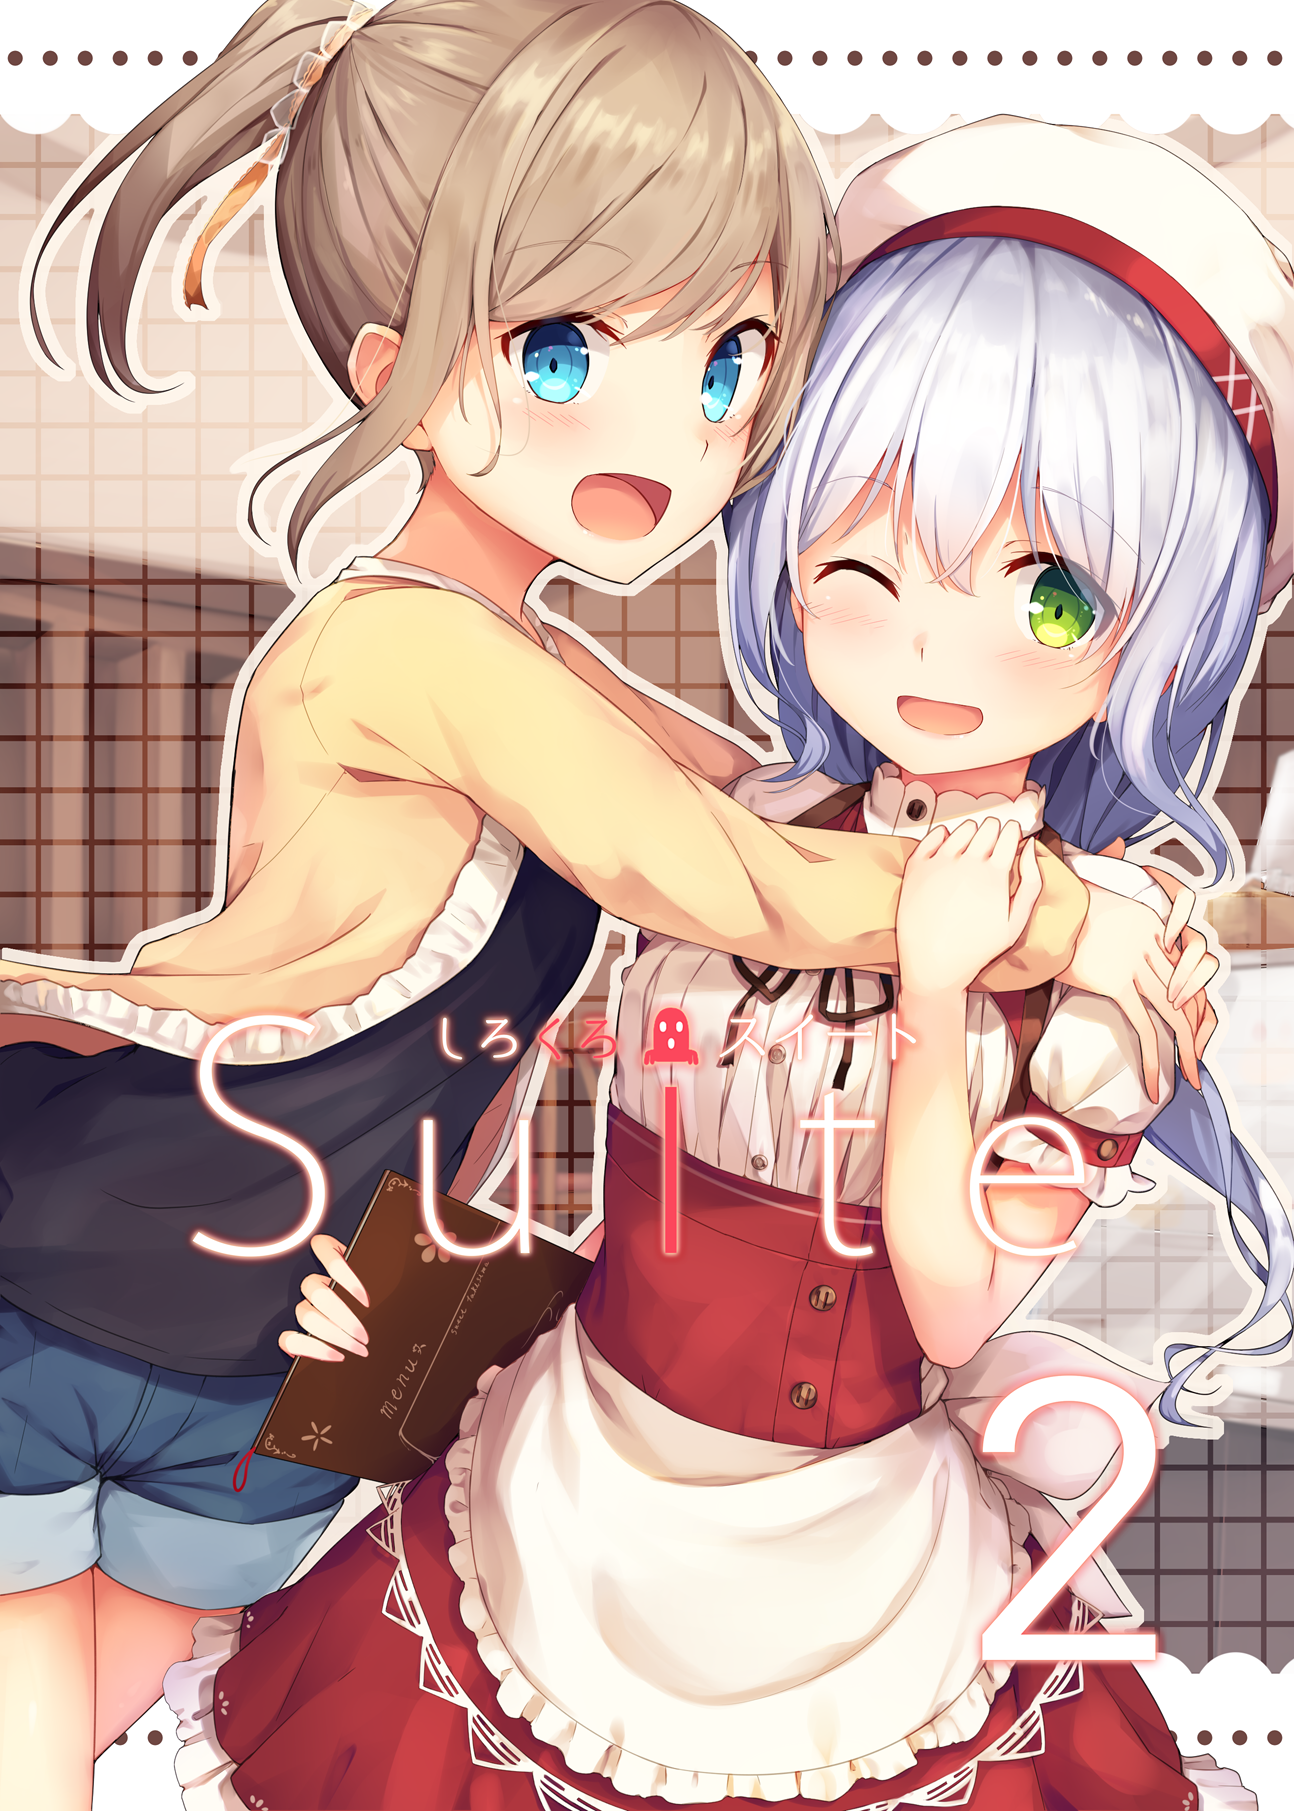纸片人正脸: (760, 126, 1280, 797), (296, 0, 864, 570)
